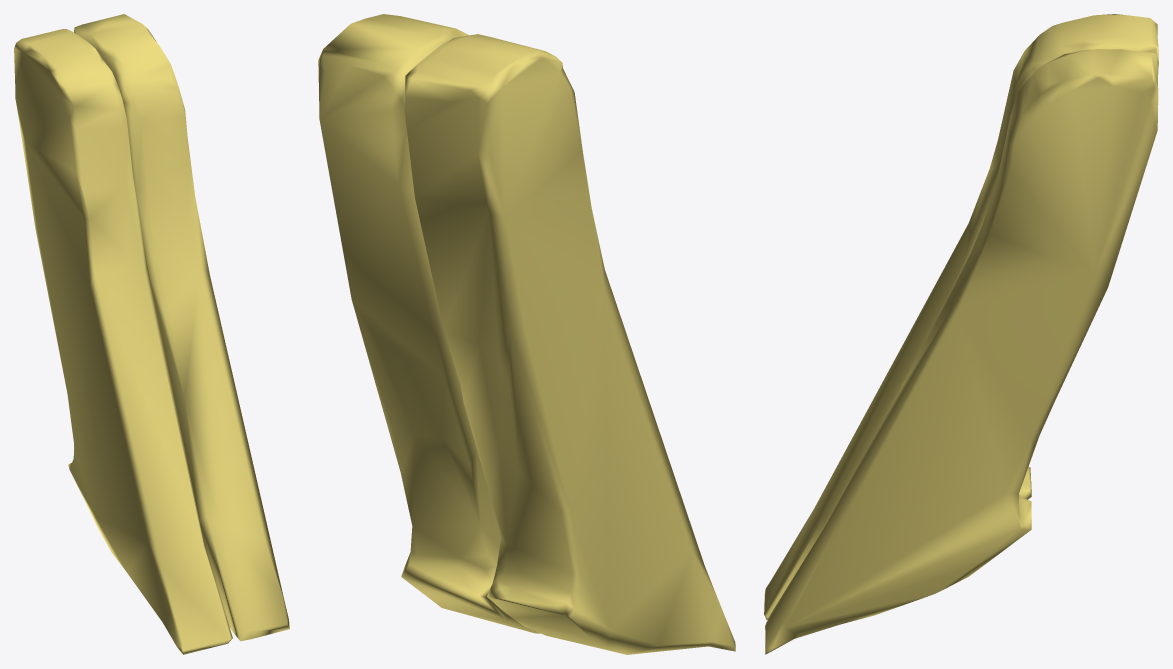
File: septal-nuclei.glb
3 views of the same model, side by side, from view 1: azimuth 30°, elevation 25°; view 2: azimuth 150°, elevation 25°; view 3: azimuth 270°, elevation 25° (orthographic). The views are drawn at different scales.
Parts seen in each view (by area): view 1: Septal nuclei; view 2: Septal nuclei; view 3: Septal nuclei.
Part boxes in pixels (bbox=[...]): Septal nuclei: bbox=[14, 14, 289, 654]; Septal nuclei: bbox=[318, 14, 735, 654]; Septal nuclei: bbox=[764, 14, 1158, 654].
Bounding box in the file's own units: 0.00273 × 0.0115 × 0.0071.
